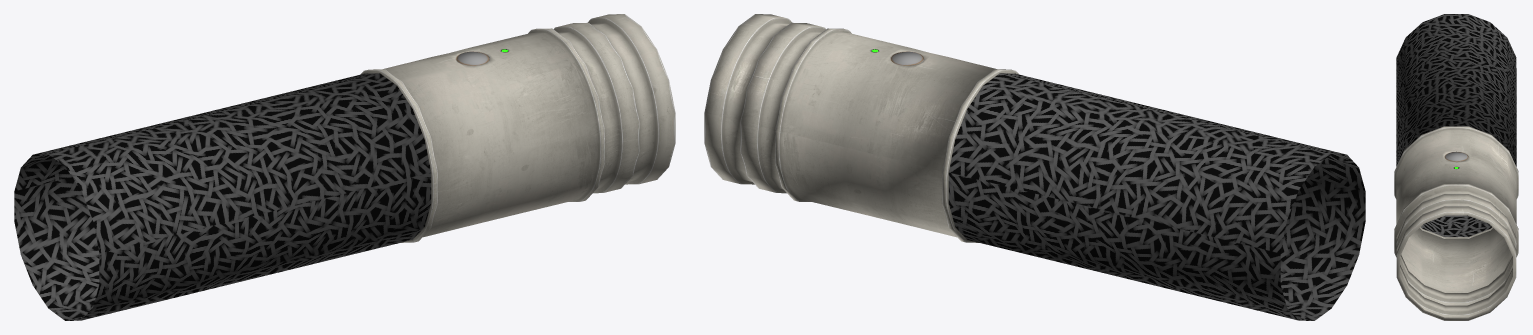
File: grip_3_c_d.glb
3 renders of one model, left to right at view 1: azimuth 30°, elevation 25°; view 2: azimuth 150°, elevation 25°; view 3: azimuth 270°, elevation 25°, orthographic. The views are drawn at different scales.
Visible parts, largest first — view 1: grip_3_c_d_lod0; view 2: grip_3_c_d_lod0; view 3: grip_3_c_d_lod0.
Part boxes in pixels (bbox=[...]): grip_3_c_d_lod0: bbox=[14, 14, 675, 320]; grip_3_c_d_lod0: bbox=[704, 14, 1365, 320]; grip_3_c_d_lod0: bbox=[1394, 14, 1518, 320].
Size of what is drawn, in the model's own units: 0.1054 by 0.0279 by 0.0279.
Materials: 1 (1 with a texture image).
